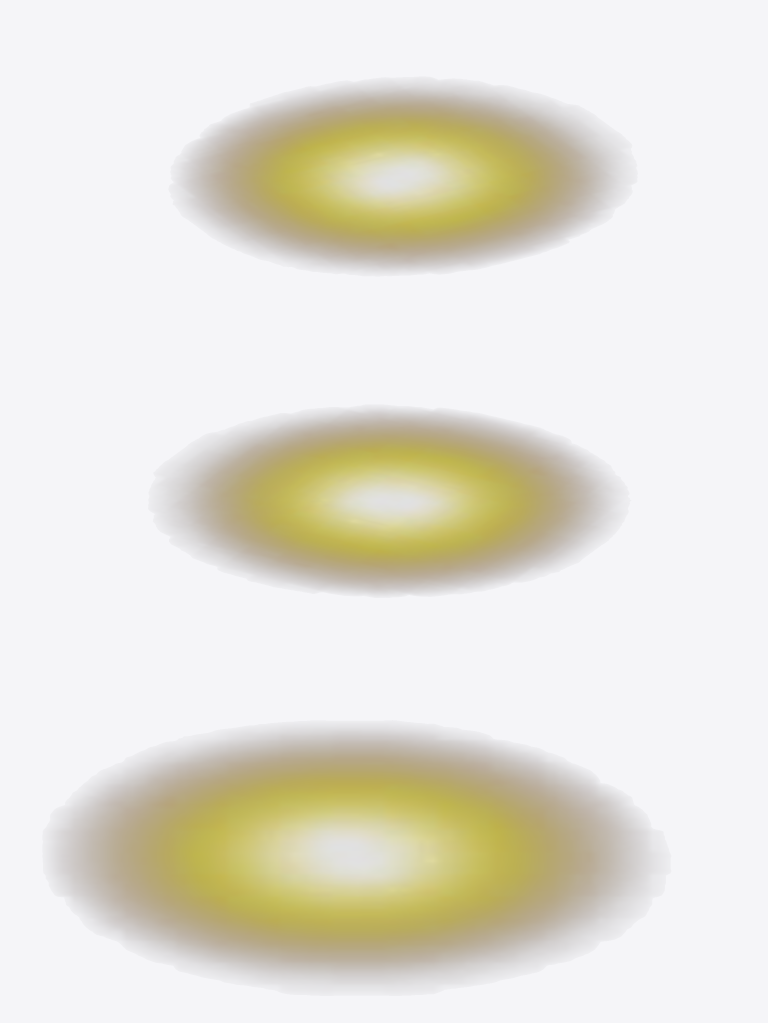
The model's file is target-ring.glb.
3 views of the same model, one above another, from view 1: azimuth 30°, elevation 25°; view 2: azimuth 150°, elevation 25°; view 3: azimuth 270°, elevation 25° (orthographic). The views are drawn at different scales.
Visible parts, largest first — view 1: light_0; view 2: light_0; view 3: light_0.
Boxes of the visible parts, <box> form: light_0: <box>187,87,612,267</box>; light_0: <box>174,412,605,591</box>; light_0: <box>62,732,640,979</box>.
Size of the model in its own units: 19.41 by 0 by 19.41.
Materials: 1 (1 with a texture image).
